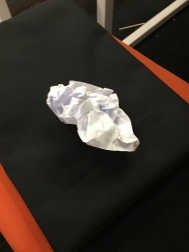paper_white: (34, 70, 150, 176)
